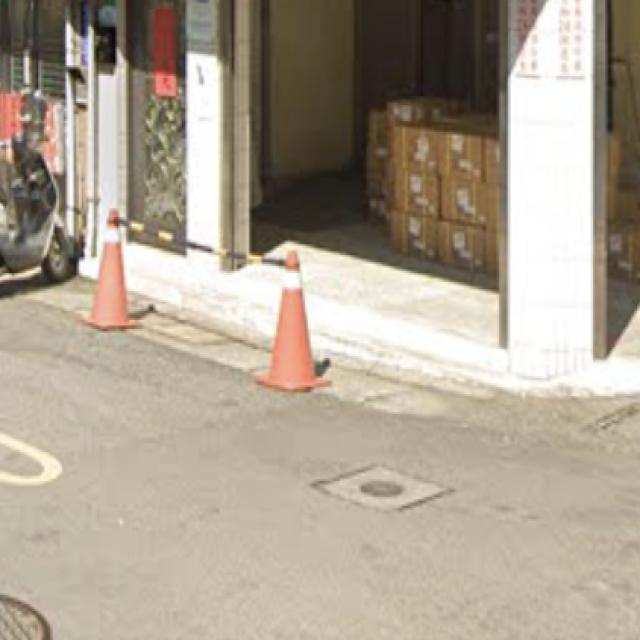cone: (262, 246, 340, 400), (84, 196, 145, 350)
